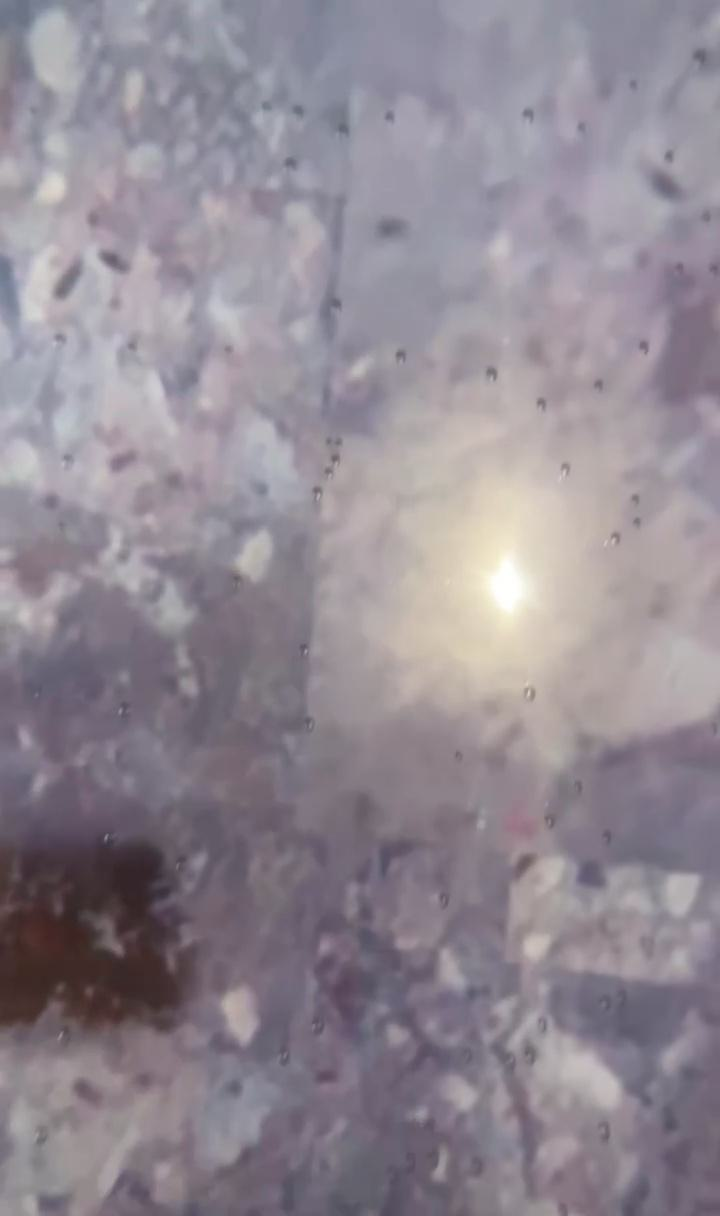Corrosion: (1, 838, 199, 1029)
